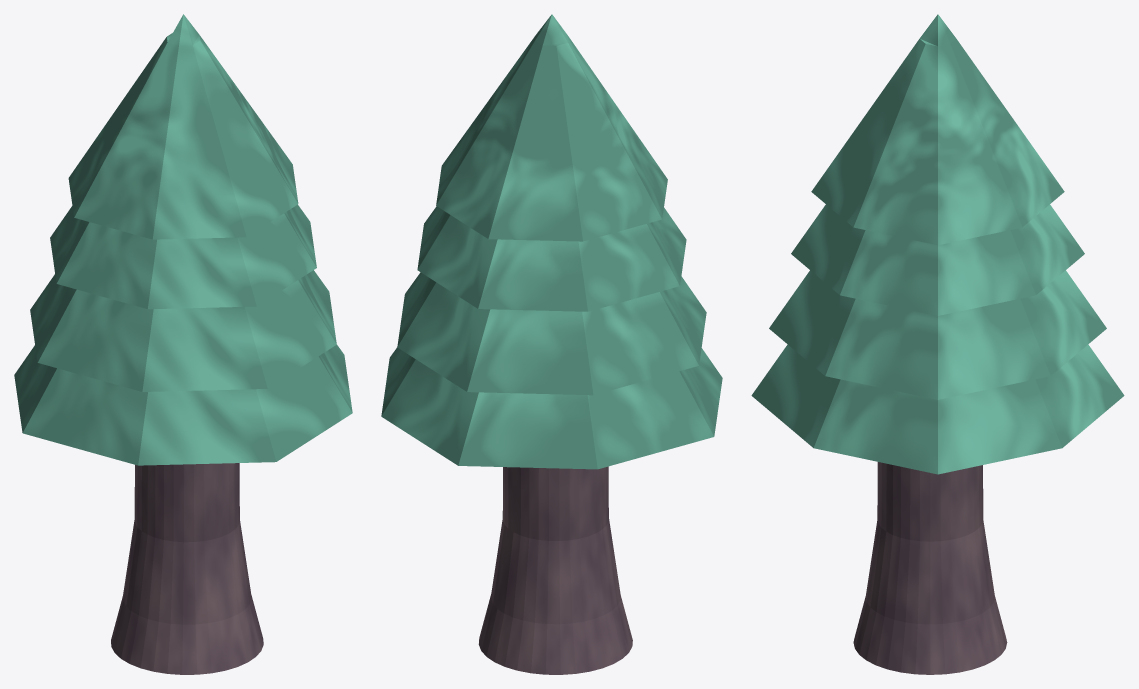
The model's file is tree4.gltf.
The picture shows the model from 3 angles, left to right: view 1: azimuth 30°, elevation 25°; view 2: azimuth 150°, elevation 25°; view 3: azimuth 270°, elevation 25°; orthographic projection.
Visible parts, largest first — view 1: Cube, trunk.003; view 2: Cube, trunk.003; view 3: Cube, trunk.003.
Boxes of the visible parts, box(x1,y1,x2,y2) form: Cube: box(14, 14, 352, 465); trunk.003: box(111, 463, 263, 674); Cube: box(381, 14, 722, 469); trunk.003: box(478, 466, 632, 674); Cube: box(751, 14, 1124, 474); trunk.003: box(853, 462, 1007, 674).
Size of the model in its own units: 7.17 by 13.32 by 7.17.
2 materials, 2 textured.
